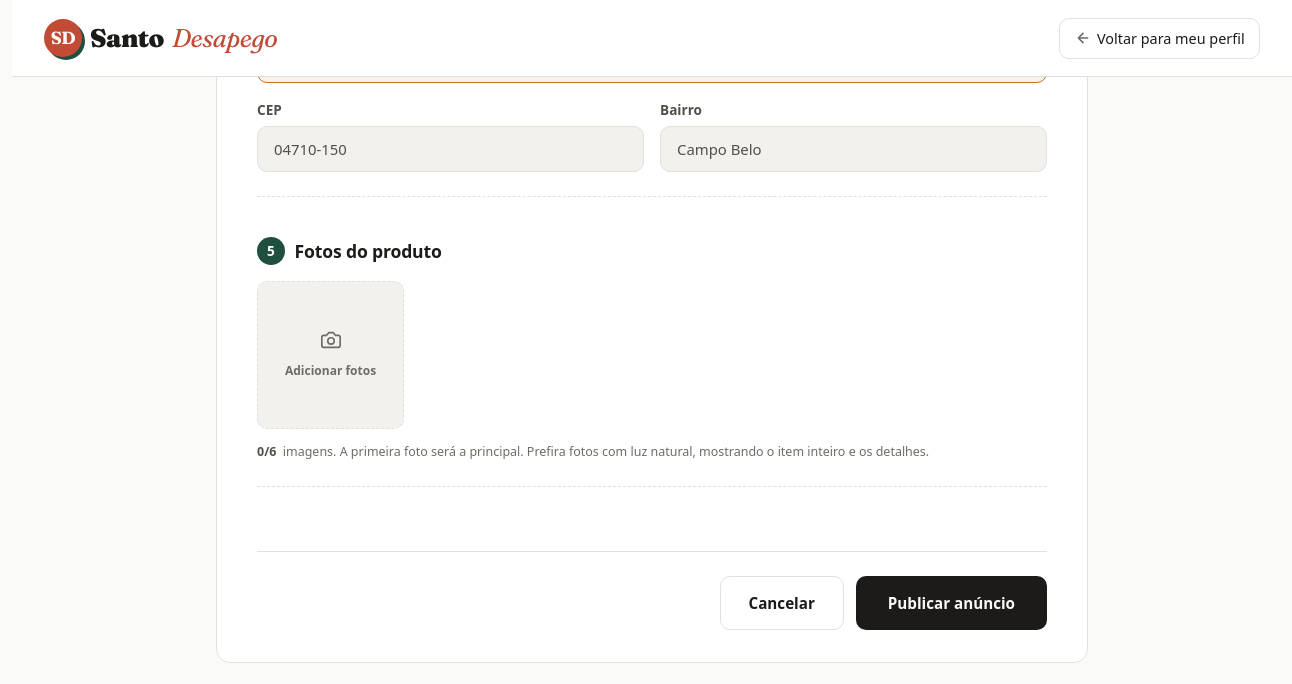
Test: RF06 - Anúncio de Produtos › título com menos de 5 caracteres não é publicado
This screenshot has width=1292, height=684.
(page scrolled)
Click the button "Publicar anúncio". click: (951,603)
box: [856,576,1047,630]
(page scrolled)
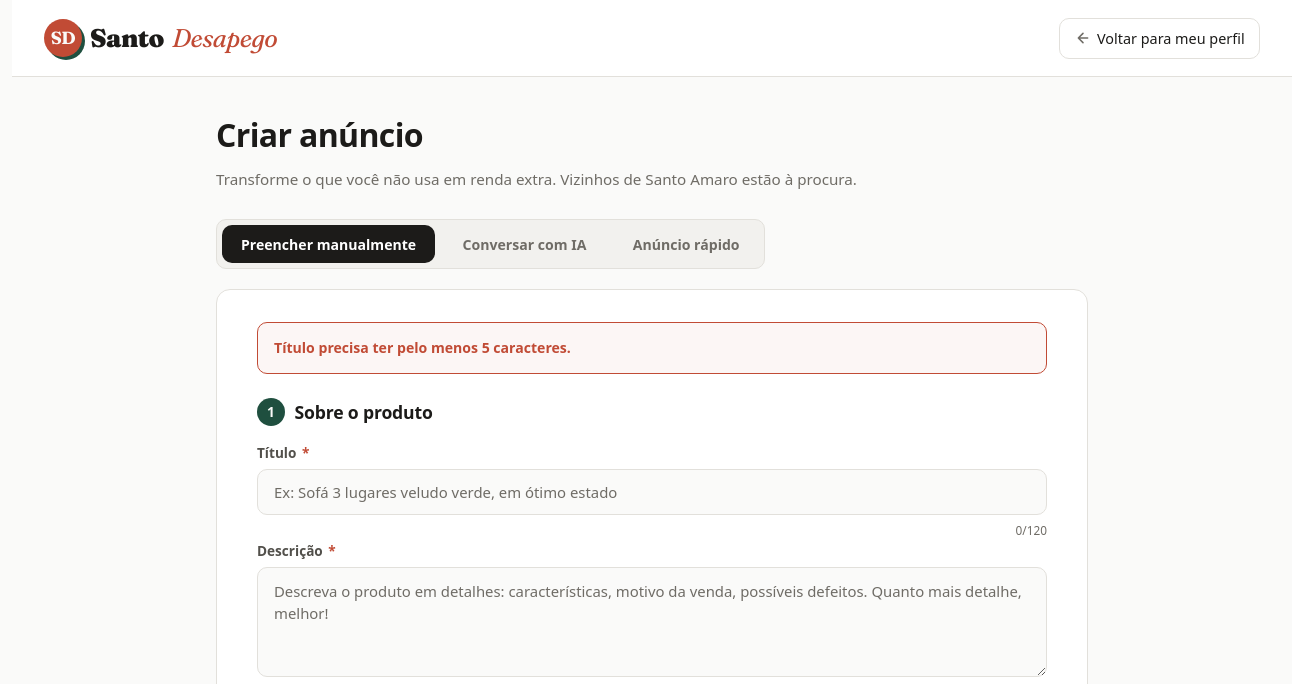
Result: the text "Título precisa ter pelo menos 5 caracteres." is shown at [274,336,571,359]
